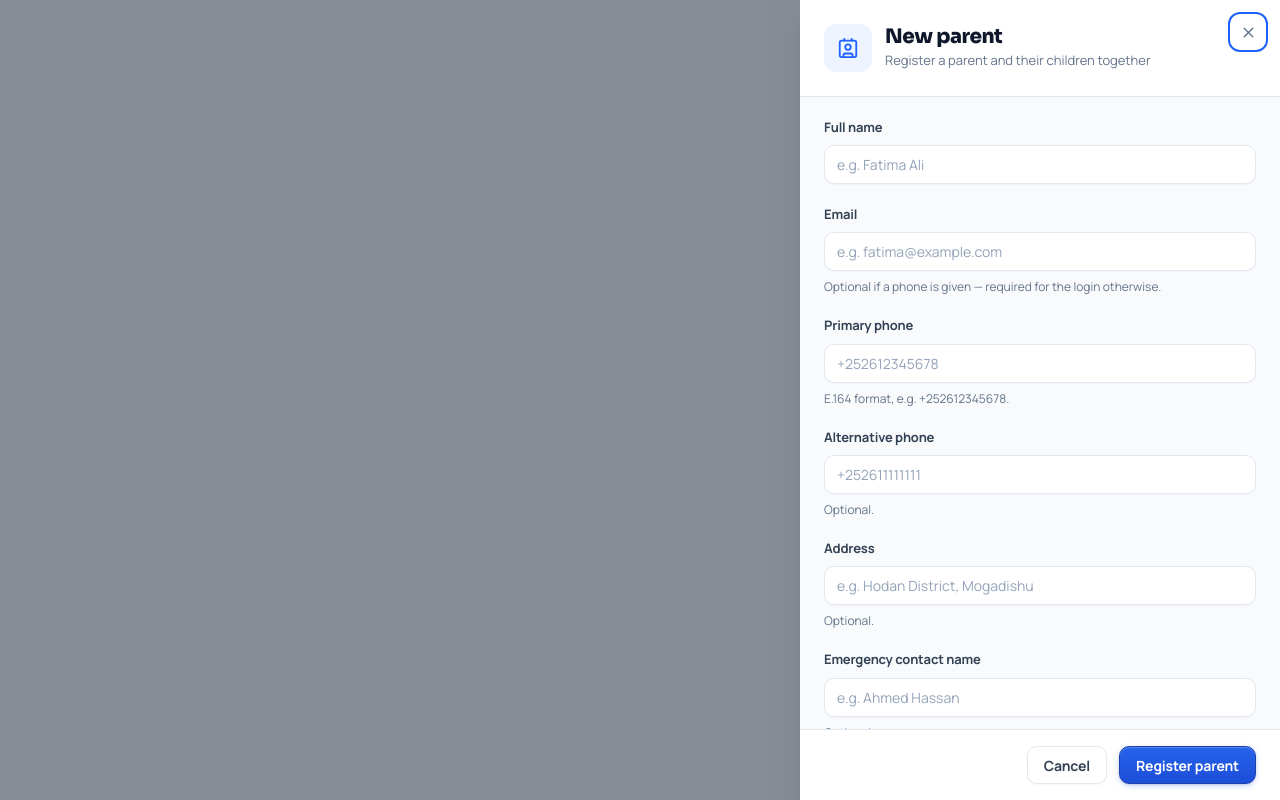
Test: CreateParentForm › as org_admin (own organization is implicit) › validates phone as E.164 format when provided
The width and height of the screenshot is (1280, 800).
Type "Fatima Ali" into the field with placeholder "e.g. Fatima Ali".
click(1040, 165); type("Fatima Ali")  # box [824, 145, 1256, 184]
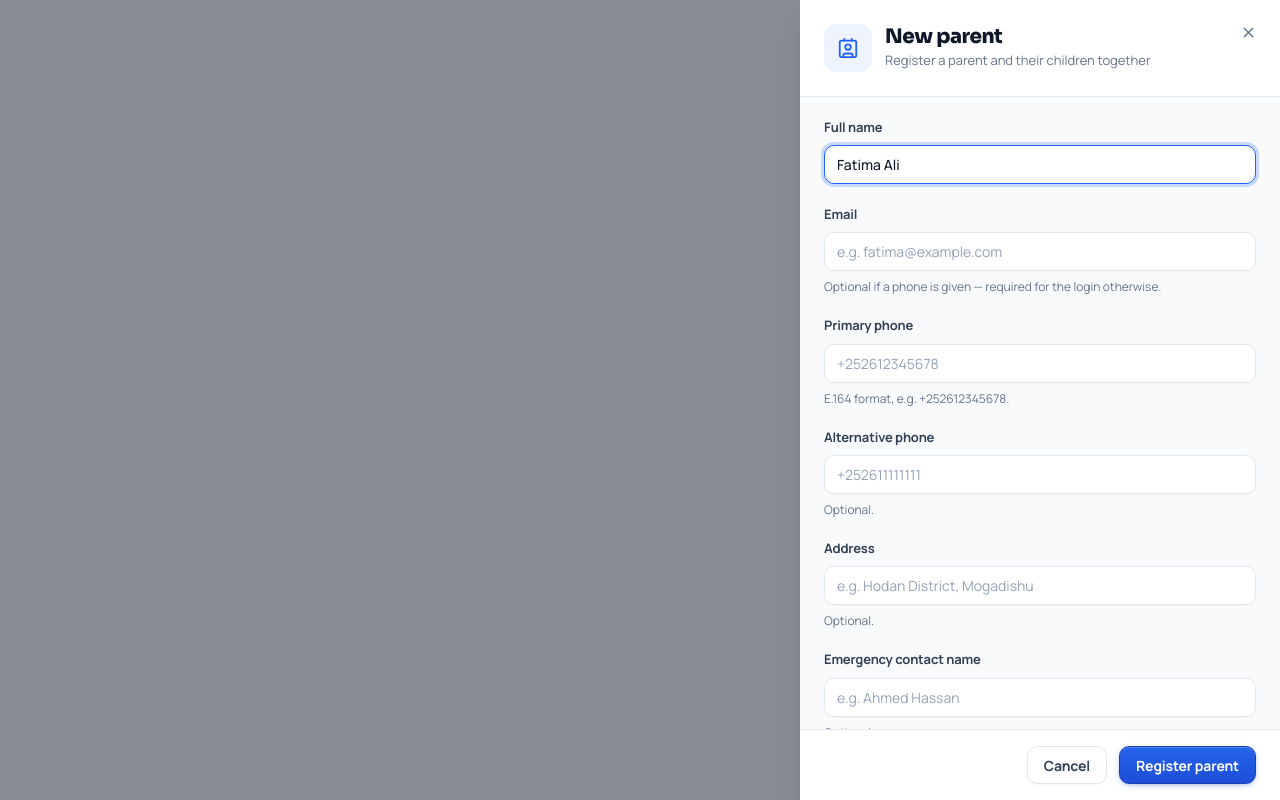
Type "0612345678" into the field with placeholder "+252612345678".
click(1040, 363); type("0612345678")  # box [824, 344, 1256, 383]
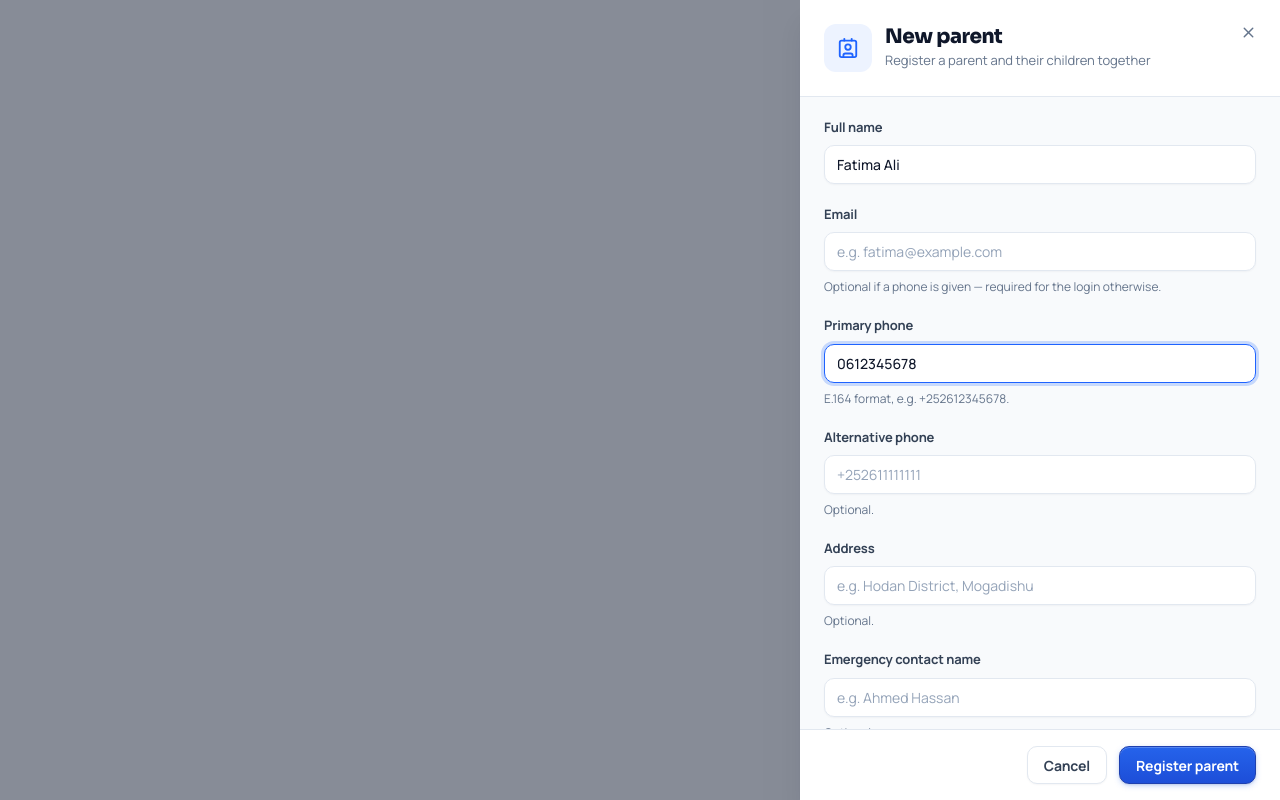
Click the button "Register parent".
click(1188, 765)  # box [1119, 746, 1256, 784]
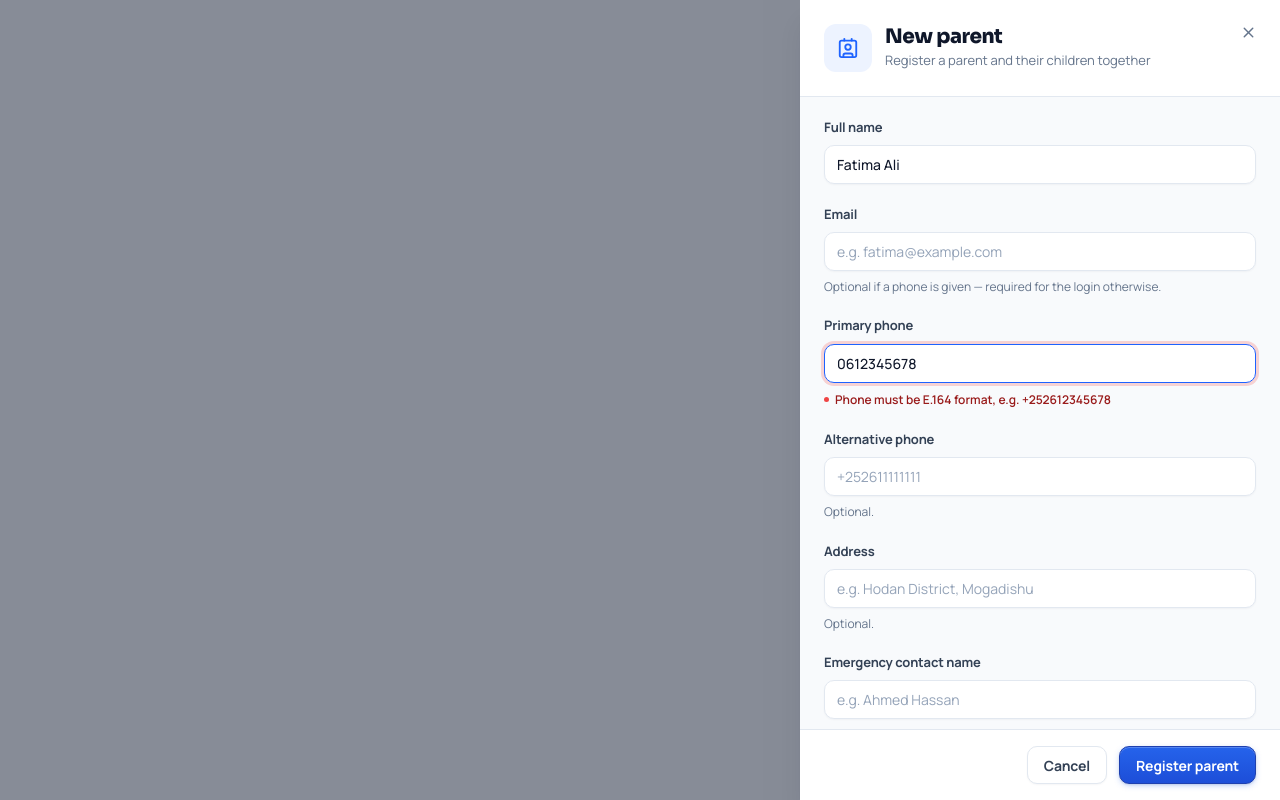
Result: the text "Phone must be E.164 format, e.g. +252612345678" is shown at [835, 391, 1111, 408]
